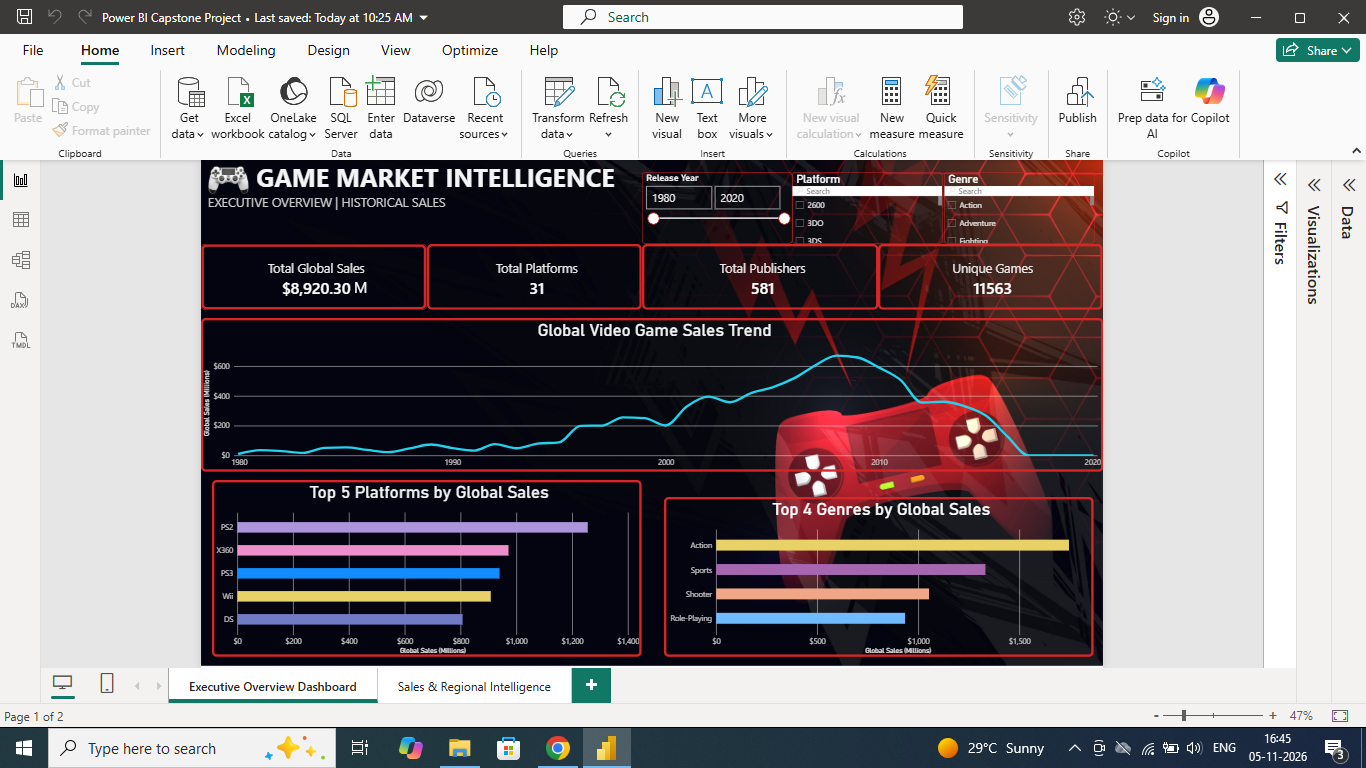

Layout of this report page (visuals, bound fields, positions):
{"tool":"powerbi","page":{"name":"Executive Overview Dashboard","canvas":[1920,1080],"ordinal":0},"visuals":[{"type":"cardVisual","fields":{"Data":["Measures (2).Total Global Sales"]},"box":[0,178.6,480.5,140.3],"z":0},{"type":"cardVisual","fields":{"Data":["Measures (2).Total Platforms"]},"box":[480.5,178.6,457.1,140.3],"z":1000},{"type":"cardVisual","fields":{"Data":["Measures (2).Total Publishers"]},"box":[937.6,178.6,503.9,140.3],"z":2000},{"type":"cardVisual","fields":{"Data":["Measures (2).Unique Games"]},"box":[1441.4,178.6,478.3,140.3],"z":3000},{"type":"textbox","box":[0,0,937.5,112.5],"z":4000},{"type":"lineChart","title":"Global Video Game Sales Trend","fields":{"Category":["DimYear.Year_of_Release"],"Y":["Measures (2).Total Global Sales"]},"box":[0,335.9,1919.8,327.4],"z":5000},{"type":"image","box":[0,12.8,116.9,59.5],"z":6000},{"type":"clusteredBarChart","title":"Top 5 Platforms by Global Sales","fields":{"Category":["DimPlatform.Platform"],"Y":["Measures (2).Total Global Sales"]},"box":[23.4,680.3,914.2,376.3],"z":7000},{"type":"clusteredBarChart","title":"Top 4 Genres by Global Sales","fields":{"Category":["DimRelease.Genre"],"Y":["Measures (2).Total Global Sales"]},"box":[984.3,716.5,914.2,340.2],"z":8000},{"type":"textbox","box":[325.3,248.7,38.3,51],"z":9000},{"type":"slicer","fields":{"Values":["DimYear.Year_of_Release"]},"box":[937.5,25,320,152.5],"z":10000},{"type":"slicer","fields":{"Values":["DimPlatform.Platform"]},"box":[1257.5,25,320,152.5],"z":11000},{"type":"slicer","fields":{"Values":["DimRelease.Genre"]},"box":[1580,25,320,152.5],"z":12000}]}

Visuals, with their boxes on the page's 1920x1080 design canvas (x1, y1, x2, y2). These are canvas units, not pixel positions in the 1366x768 screenshot, which may show the page scaled, cropped or inside an application window:
cardVisual - Measures (2).Total Global Sales: bbox=[0, 179, 480, 319]
cardVisual - Measures (2).Total Platforms: bbox=[480, 179, 938, 319]
cardVisual - Measures (2).Total Publishers: bbox=[938, 179, 1442, 319]
cardVisual - Measures (2).Unique Games: bbox=[1441, 179, 1920, 319]
textbox: bbox=[0, 0, 938, 112]
"Global Video Game Sales Trend" lineChart: bbox=[0, 336, 1920, 663]
image: bbox=[0, 13, 117, 72]
"Top 5 Platforms by Global Sales" clusteredBarChart: bbox=[23, 680, 938, 1057]
"Top 4 Genres by Global Sales" clusteredBarChart: bbox=[984, 716, 1898, 1057]
textbox: bbox=[325, 249, 364, 300]
slicer - DimYear.Year_of_Release: bbox=[938, 25, 1258, 178]
slicer - DimPlatform.Platform: bbox=[1258, 25, 1578, 178]
slicer - DimRelease.Genre: bbox=[1580, 25, 1900, 178]
